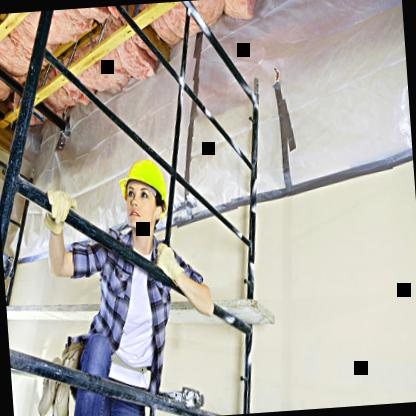helmet: (115, 150, 175, 240)
